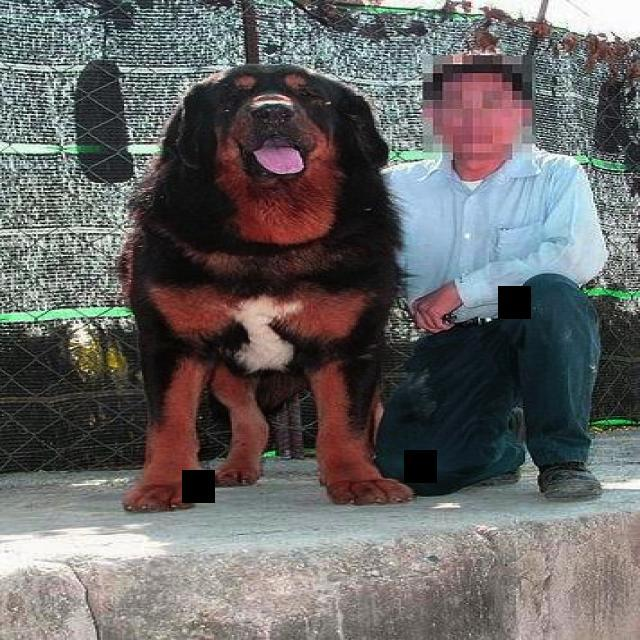adult_dog: (114, 63, 412, 512)
non-dog: (371, 50, 609, 506)
